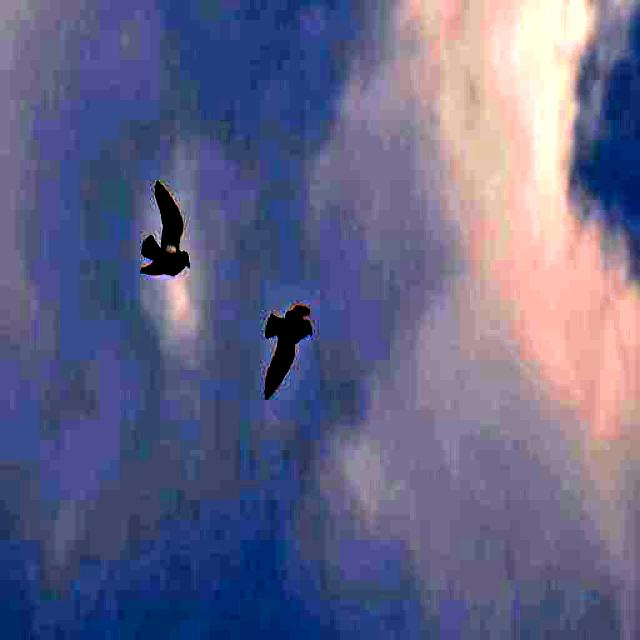airplane: (132, 170, 201, 299), (256, 289, 326, 416)
